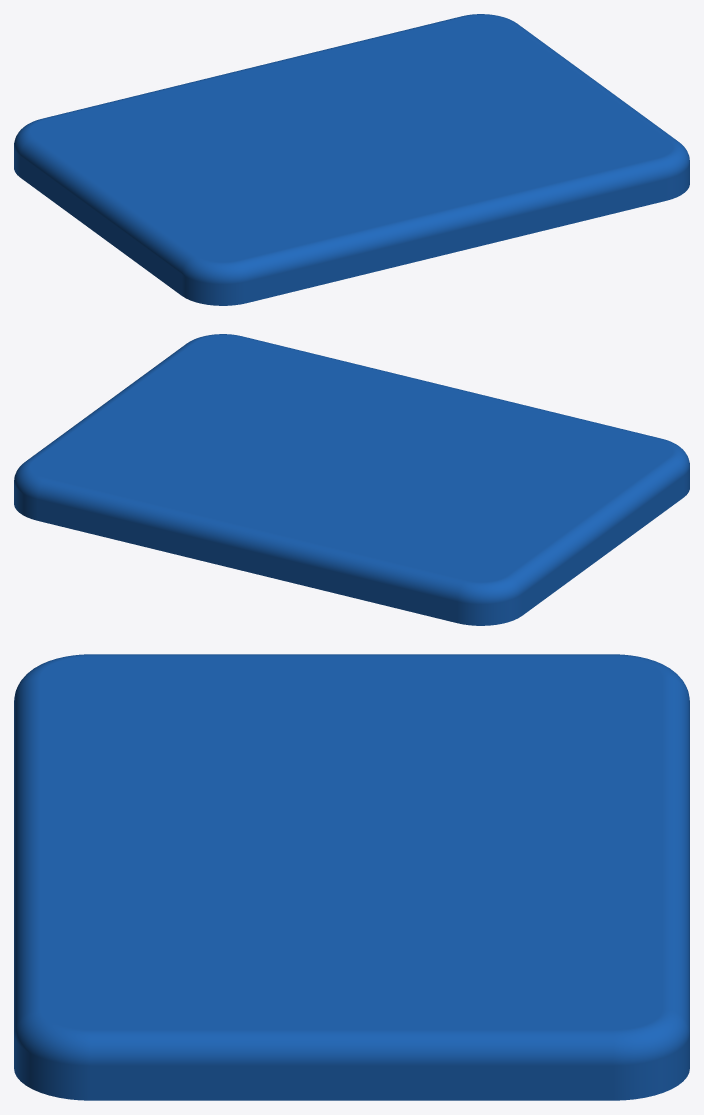
Rendered from keypad-4x4-key.glb.
3 views of the same model, one above another, from view 1: azimuth 30°, elevation 25°; view 2: azimuth 150°, elevation 25°; view 3: azimuth 270°, elevation 25° (orthographic). The views are drawn at different scales.
Visible parts, largest first — view 1: cap; view 2: cap; view 3: cap.
Boxes of the visible parts, x1,y1,x2,y2 form: cap: (14,14,689,305); cap: (14,334,689,625); cap: (14,654,689,1100).
Size of the model in its own units: 0.0122 by 0.00085 by 0.0088.
